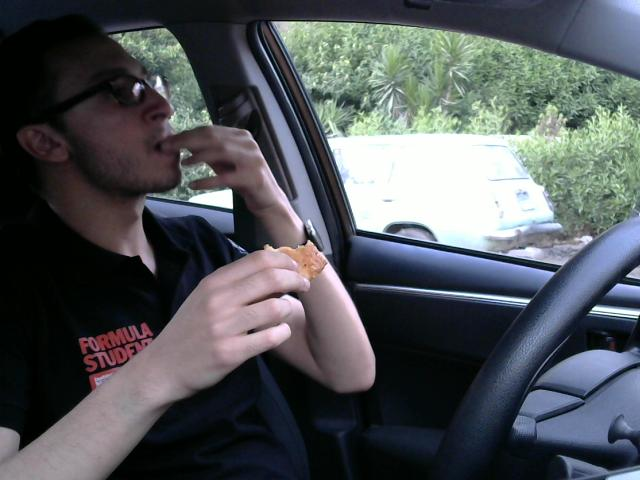Eating: (262, 236, 327, 294)
